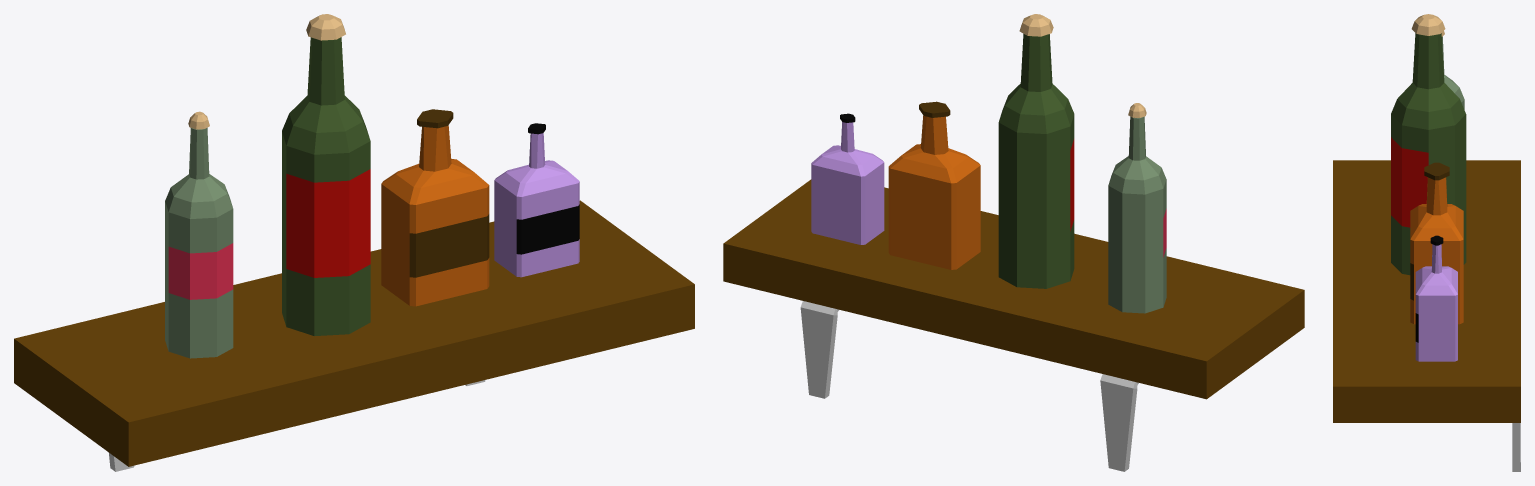
Rendered from R_Drinks_2.fbx.
3 views of the same model, side by side, from view 1: azimuth 30°, elevation 25°; view 2: azimuth 150°, elevation 25°; view 3: azimuth 270°, elevation 25° (orthographic). The views are drawn at different scales.
Parts seen in each view (by area): view 1: R_Drinks_2; view 2: R_Drinks_2; view 3: R_Drinks_2.
Part boxes in pixels (x1,y1,x2,y2): R_Drinks_2: [14, 14, 694, 471]; R_Drinks_2: [723, 14, 1304, 471]; R_Drinks_2: [1333, 14, 1520, 471].
Size of the model in its own units: 571 by 200 by 436.
